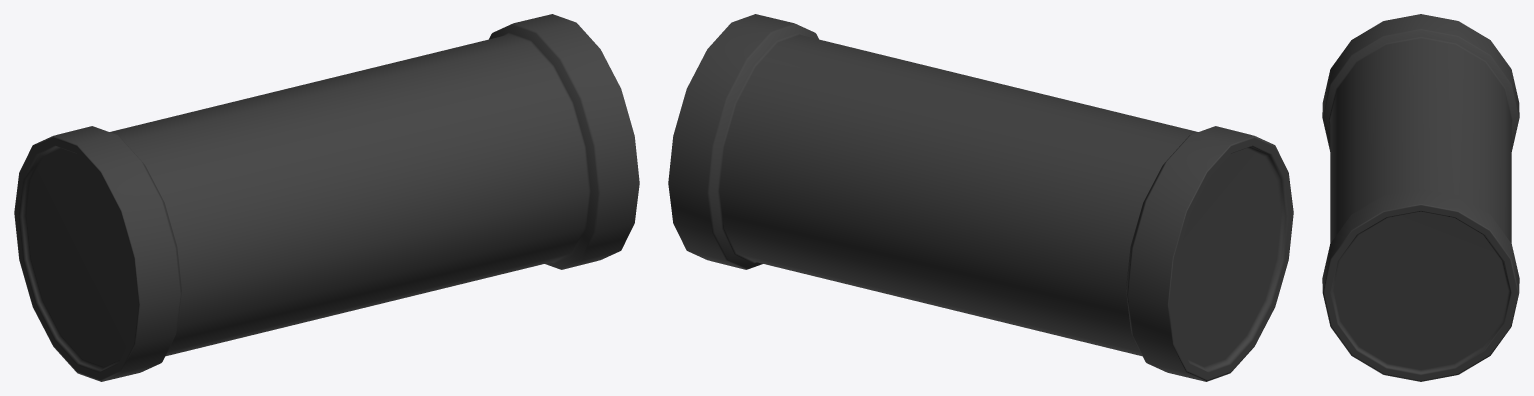
Rendered from colony_Connecting_gateway_long.glb.
3 views of the same model, side by side, from view 1: azimuth 30°, elevation 25°; view 2: azimuth 150°, elevation 25°; view 3: azimuth 270°, elevation 25° (orthographic). The views are drawn at different scales.
Parts seen in each view (by area): view 1: Connecting_gateway_long; view 2: Connecting_gateway_long; view 3: Connecting_gateway_long.
Boxes of the visible parts, x1=… form: Connecting_gateway_long: x1=14, y1=14, x2=639, y2=381; Connecting_gateway_long: x1=668, y1=14, x2=1293, y2=381; Connecting_gateway_long: x1=1322, y1=14, x2=1519, y2=381.
Size of the model in its own units: 629 by 276 by 276.
1 material, 1 textured.
